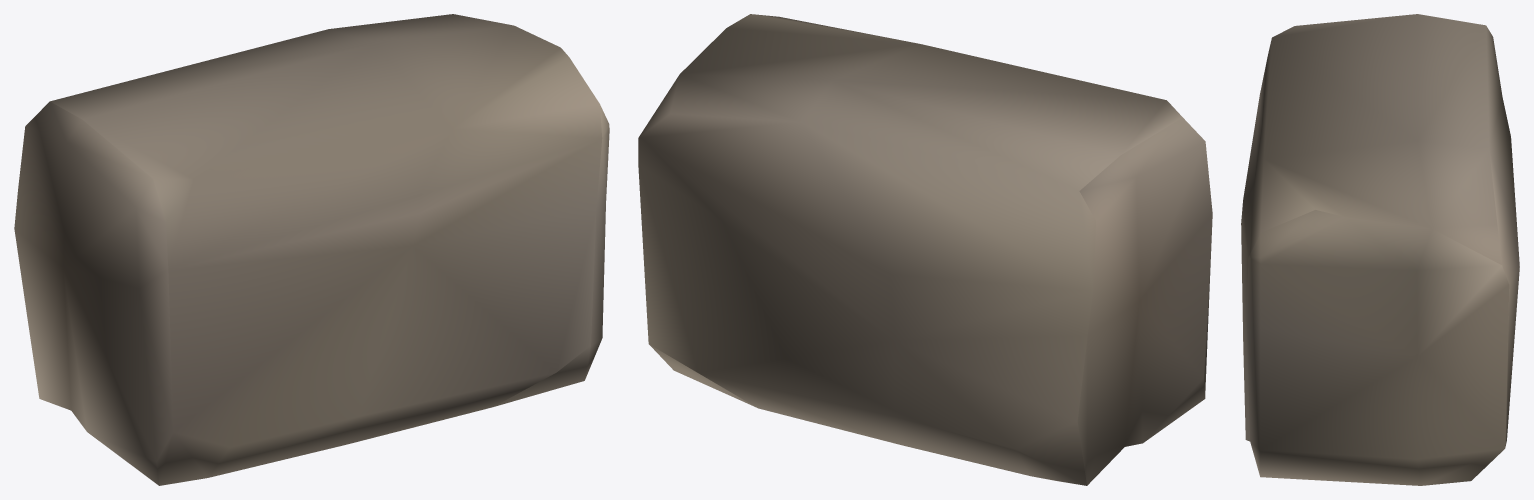
File: brick_b.glb
3 renders of one model, left to right at view 1: azimuth 30°, elevation 25°; view 2: azimuth 150°, elevation 25°; view 3: azimuth 270°, elevation 25°, orthographic. The views are drawn at different scales.
Parts seen in each view (by area): view 1: brick_b; view 2: brick_b; view 3: brick_b.
Part boxes in pixels (x1,y1,x2,y2): brick_b: (14, 14, 609, 485); brick_b: (638, 14, 1212, 485); brick_b: (1241, 14, 1519, 485).
Size of the model in its own units: 0.3814 by 0.2497 by 0.2156.
